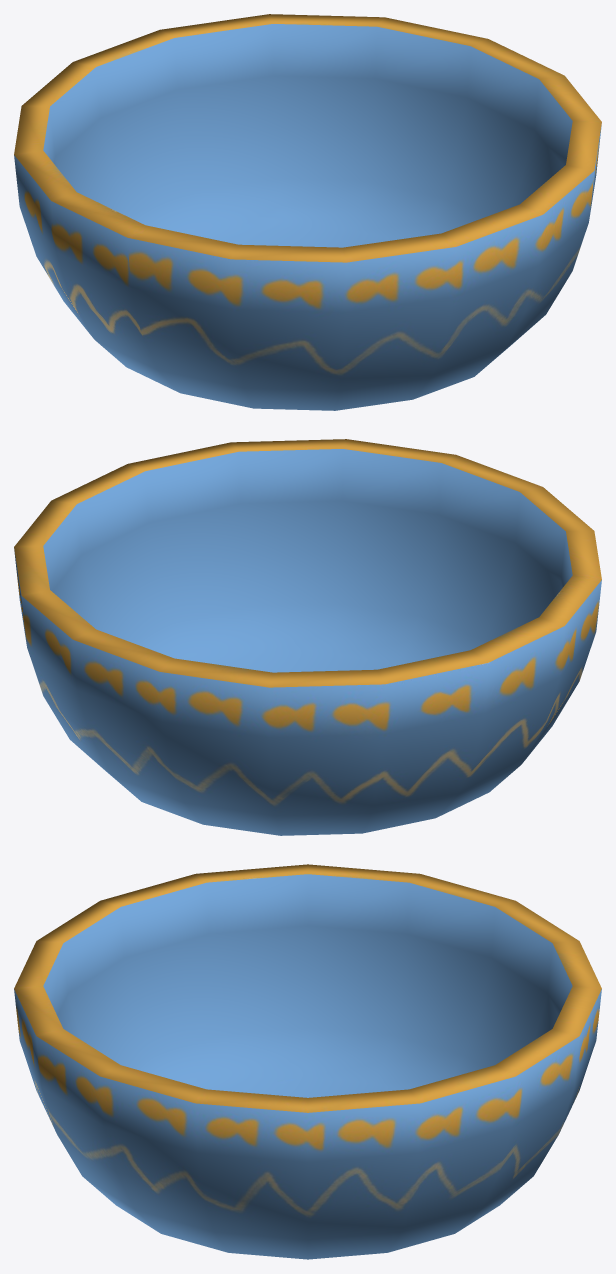
File: cuenco.fbx
The picture shows the model from 3 angles, top to bottom: view 1: azimuth 30°, elevation 25°; view 2: azimuth 150°, elevation 25°; view 3: azimuth 270°, elevation 25°; orthographic projection.
Parts seen in each view (by area): view 1: CUENCO LIMAS.006; view 2: CUENCO LIMAS.006; view 3: CUENCO LIMAS.006.
Boxes of the visible parts, bbox=[...] form: CUENCO LIMAS.006: bbox=[14, 14, 601, 410]; CUENCO LIMAS.006: bbox=[14, 439, 601, 835]; CUENCO LIMAS.006: bbox=[14, 864, 601, 1259].
Size of the model in its own units: 23.51 by 9.15 by 23.51.
